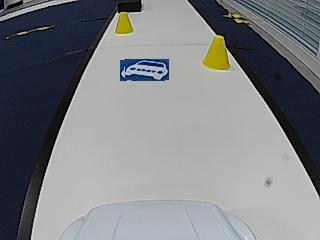block: (117, 0, 141, 13)
cone: (202, 35, 230, 69), (115, 14, 134, 34)
